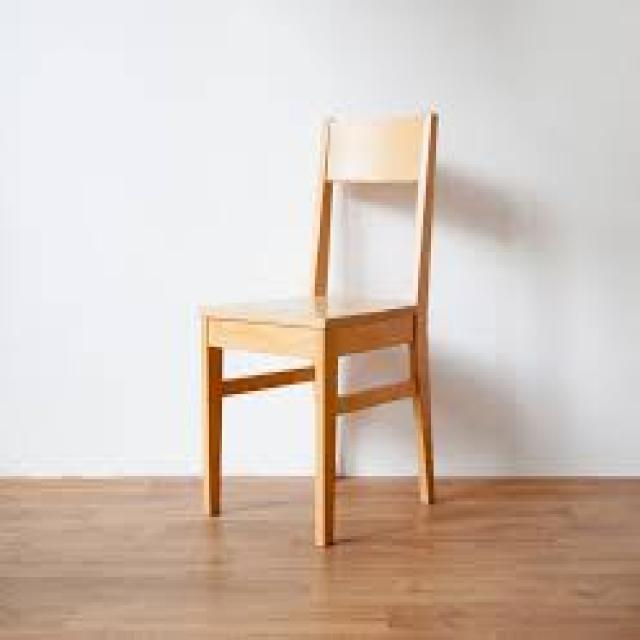chair: (184, 39, 496, 578)
